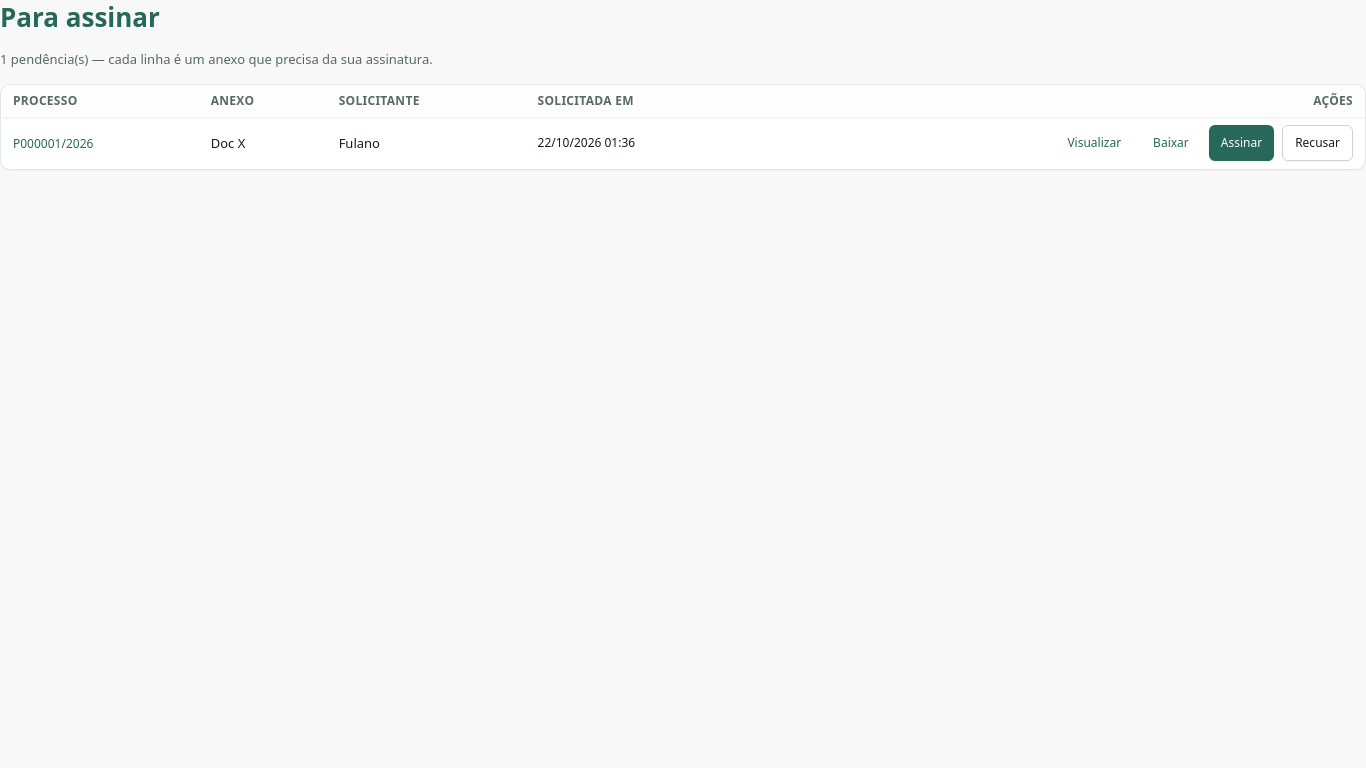
Test case: ParaAssinar — tratamento de erro do assinar › 409 (senha legada) renderiza a orientação de atualizar senha
Expected: the text "Doc X" is shown, x1=199 y1=117 x2=327 y2=169
Click the button "Assinar".
click(1242, 143)  # box x1=1209 y1=125 x2=1274 y2=161
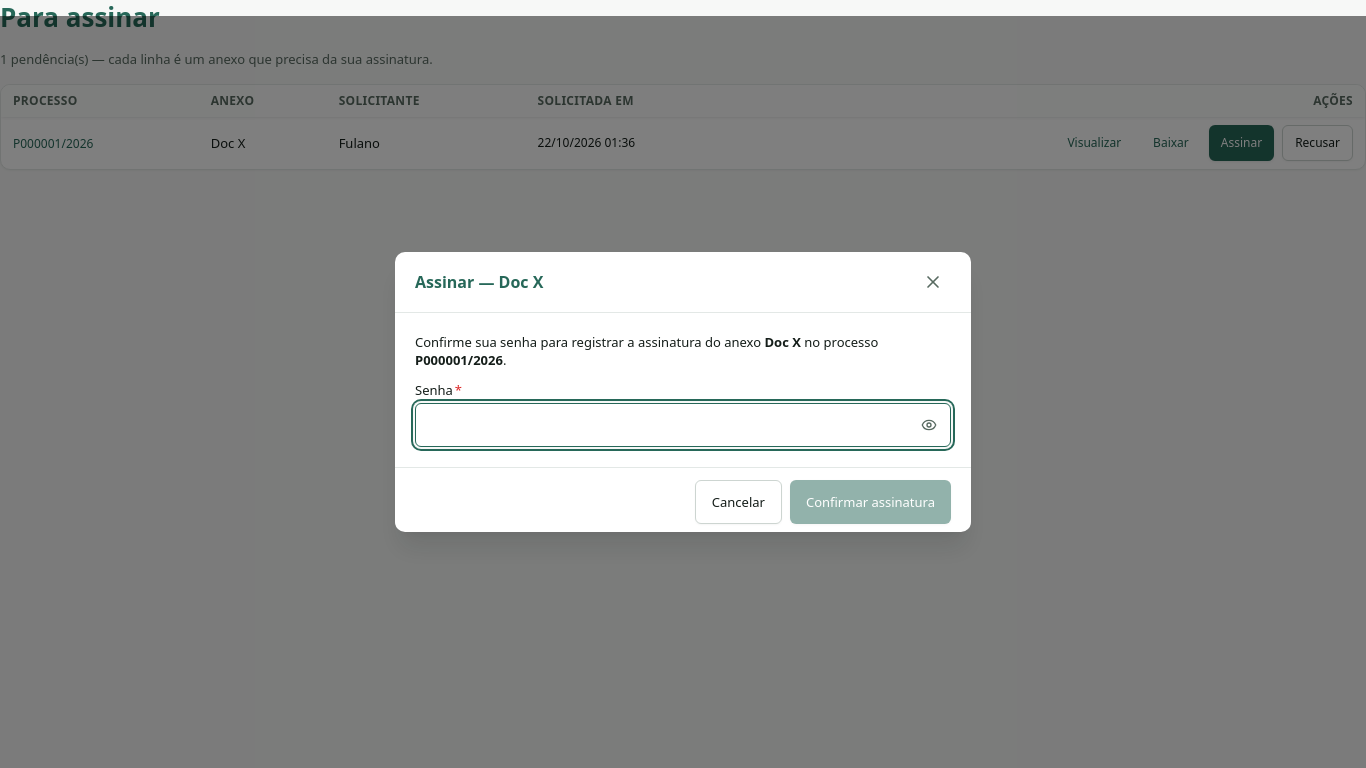
Type "qualquer-coisa" into the password field labelled "Senha*".
click(683, 425); type("qualquer-coisa")  # box x1=415 y1=403 x2=951 y2=447
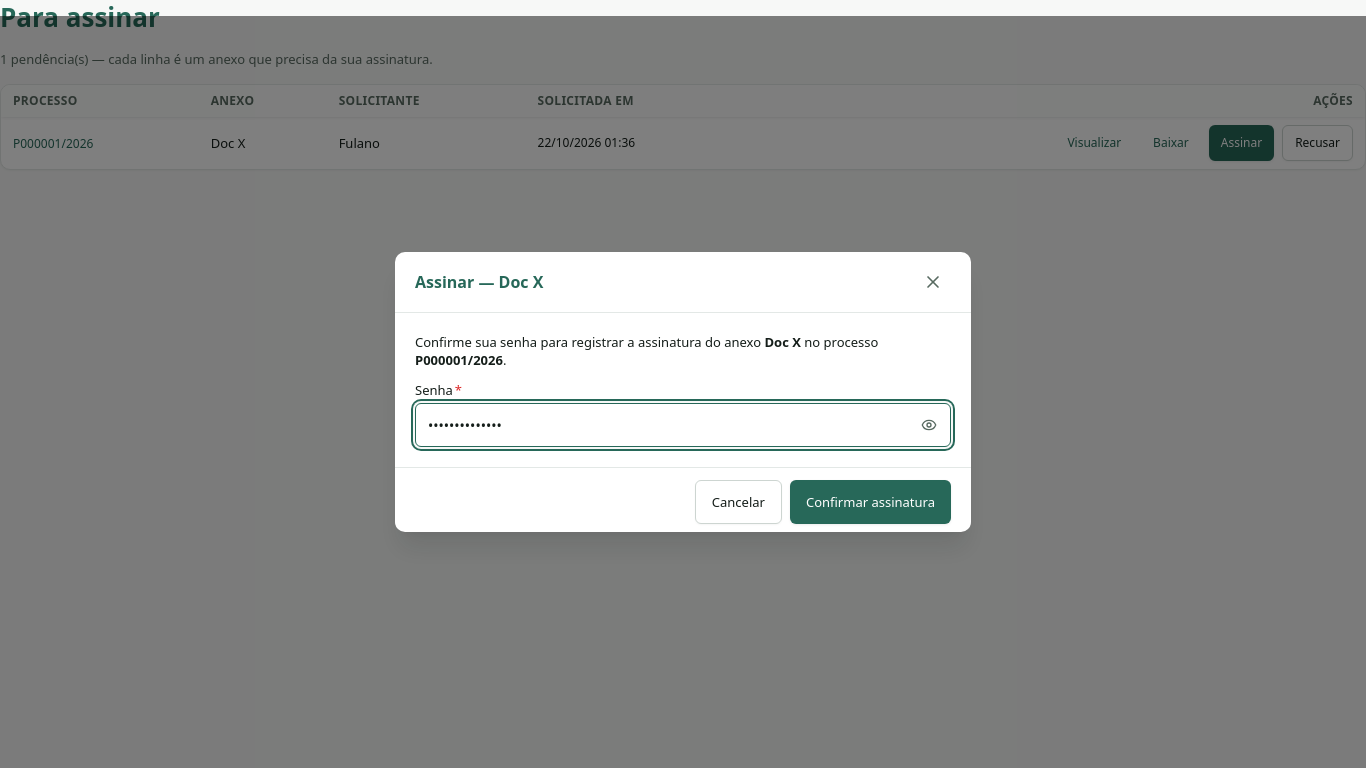
Click the button "Confirmar assinatura".
click(870, 502)  # box x1=790 y1=480 x2=951 y2=524
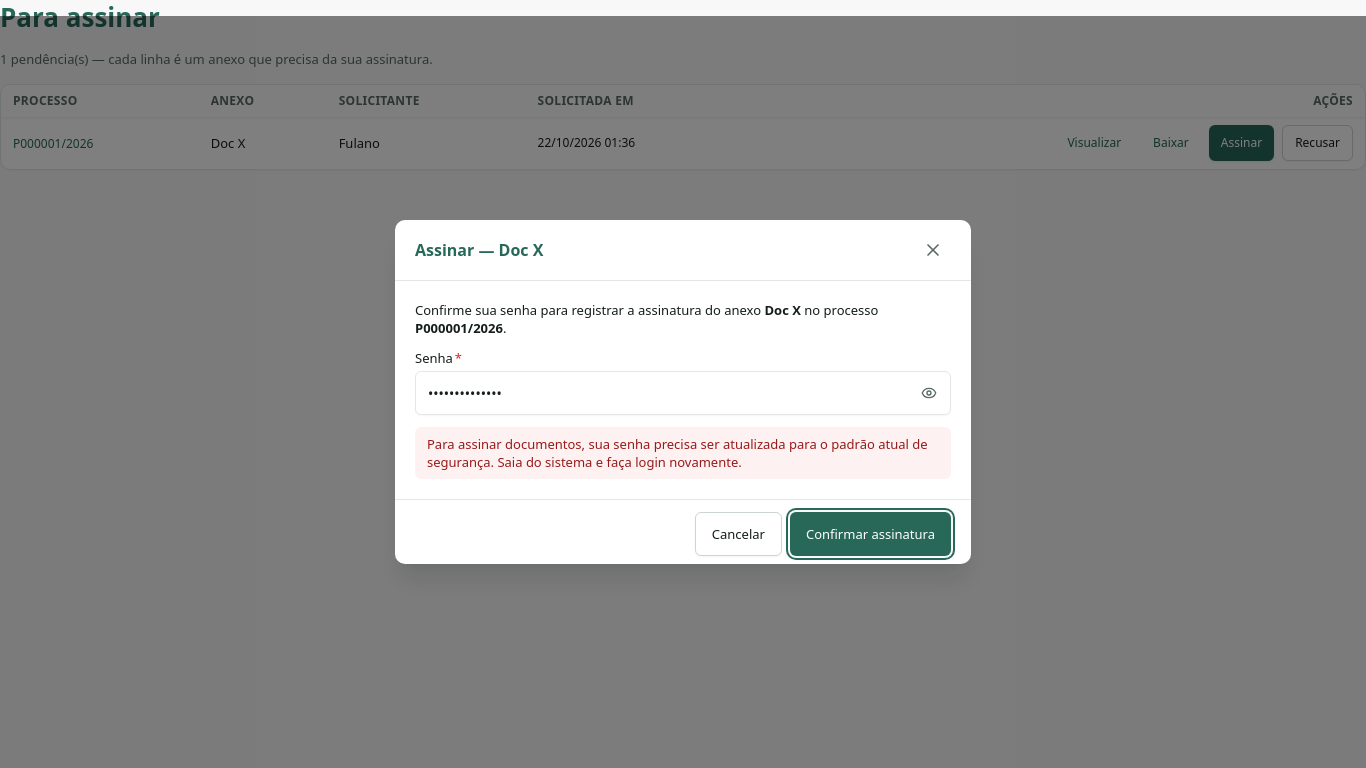
Expected: the message shows "atualizada", x1=427 y1=435 x2=928 y2=471
